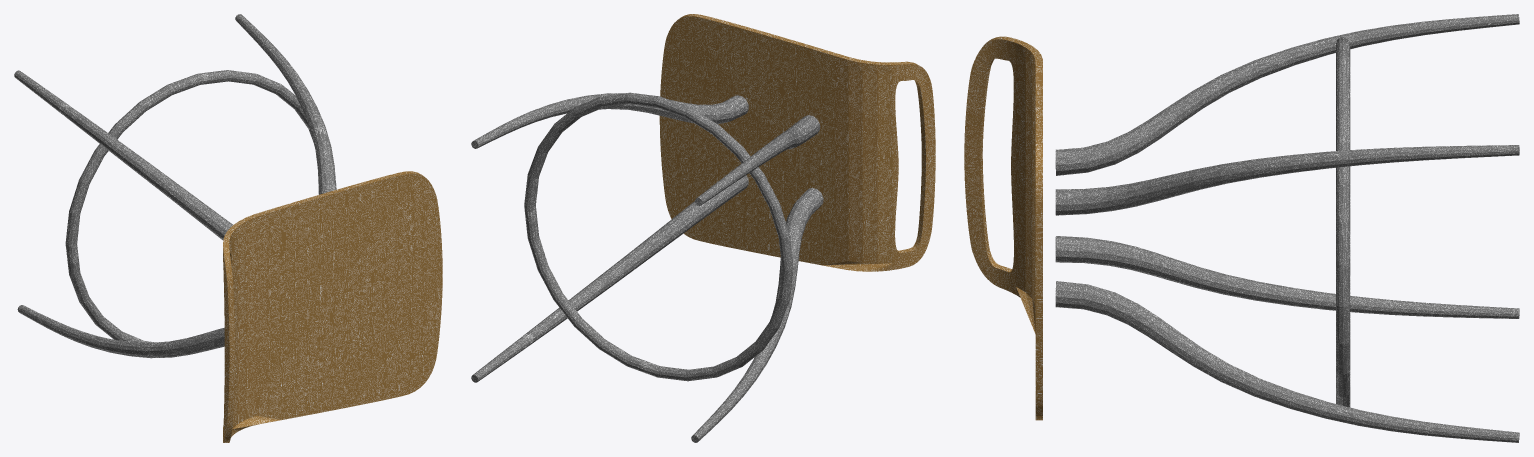
3 renders of one model, left to right at view 1: azimuth 30°, elevation 25°; view 2: azimuth 150°, elevation 25°; view 3: azimuth 270°, elevation 25°, orthographic. The views are drawn at different scales.
Visible parts, largest first — view 1: stool; view 2: stool; view 3: stool.
Part boxes in pixels (x1,y1,x2,y2): stool: (14, 14, 442, 442); stool: (471, 14, 935, 442); stool: (964, 14, 1519, 442).
Size of the model in its own units: 39.89 by 39.89 by 58.29.
